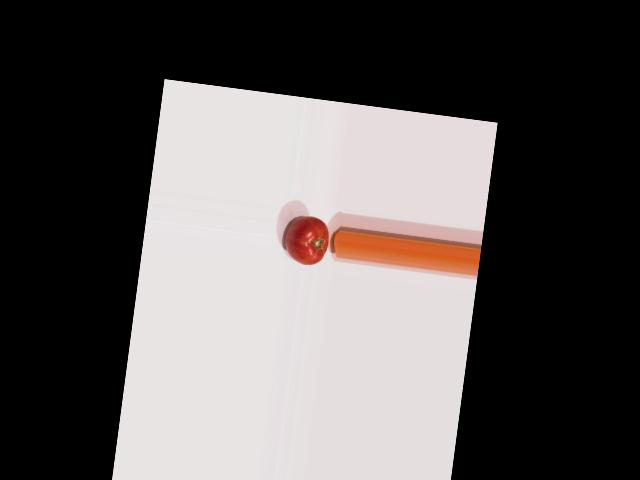tomato: (283, 214, 330, 267)
